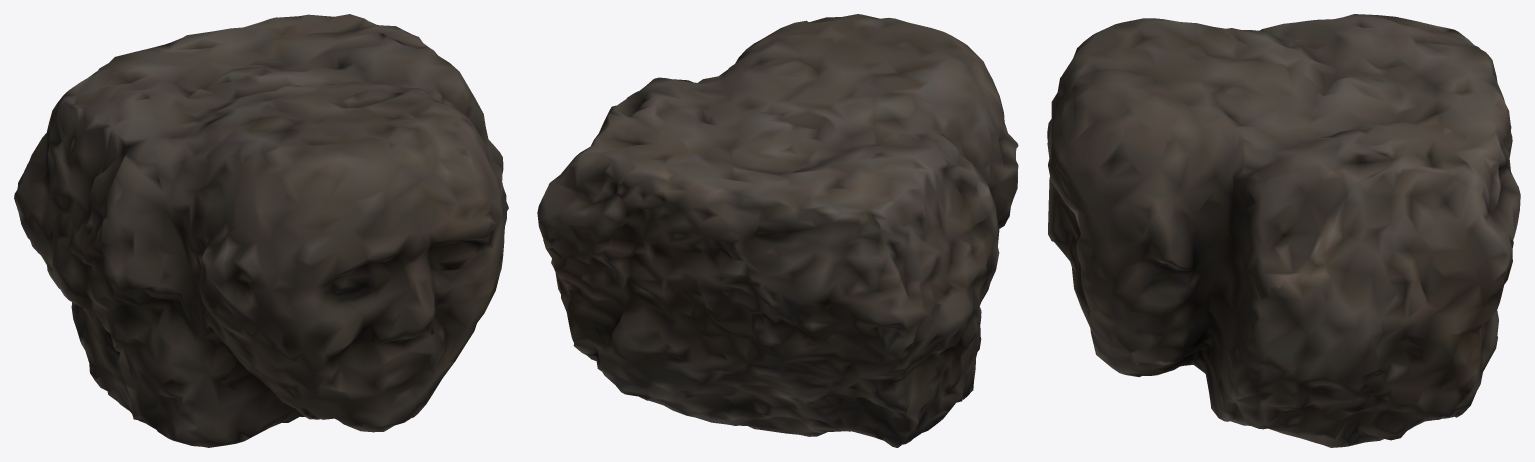
The model's file is carvings.b4cd7b64.glb.
3 renders of one model, left to right at view 1: azimuth 30°, elevation 25°; view 2: azimuth 150°, elevation 25°; view 3: azimuth 270°, elevation 25°, orthographic. The views are drawn at different scales.
Parts seen in each view (by area): view 1: body; view 2: body; view 3: body.
Boxes of the visible parts, x1=… form: body: x1=14, y1=14, x2=508, y2=447; body: x1=537, y1=14, x2=1018, y2=447; body: x1=1047, y1=14, x2=1520, y2=447.
Size of what is drawn, in the model's own units: 0.6999 by 0.5533 by 0.6866.
